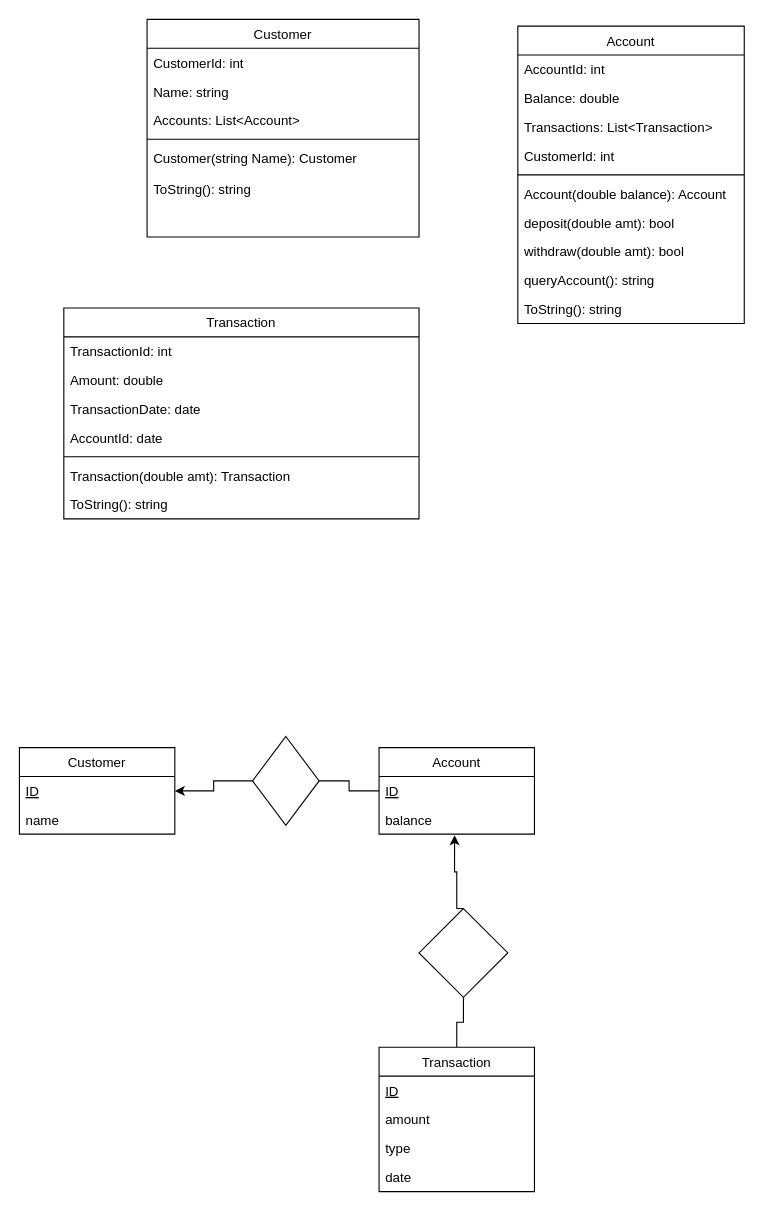
This 764x1214 diagram has some shape labels left out. Each missing label, with the centre of its shape:
"does" goes at point 463,952.
"owner" goes at point 285,780.
